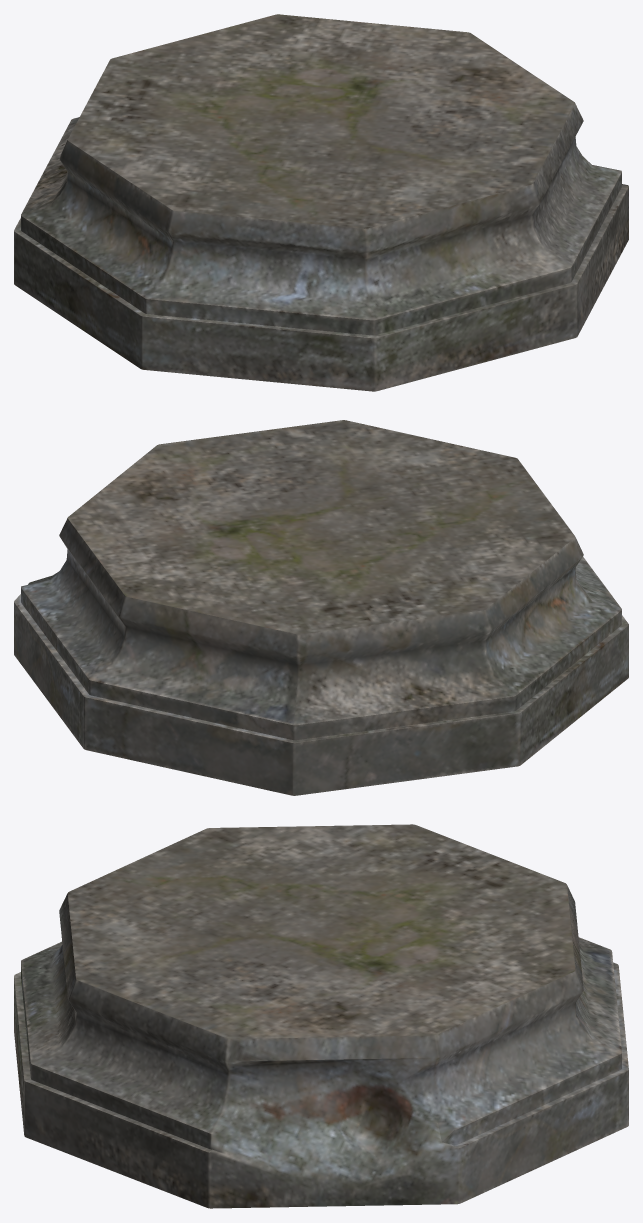
File: sm_ChapelColumnBase_01_01.fbx
3 renders of one model, top to bottom at view 1: azimuth 30°, elevation 25°; view 2: azimuth 150°, elevation 25°; view 3: azimuth 270°, elevation 25°, orthographic. The views are drawn at different scales.
Visible parts, largest first — view 1: sm_ChapelColumnBase_01_01_LOD0; view 2: sm_ChapelColumnBase_01_01_LOD0; view 3: sm_ChapelColumnBase_01_01_LOD0.
Boxes of the visible parts, bbox=[...] form: sm_ChapelColumnBase_01_01_LOD0: bbox=[14, 14, 628, 391]; sm_ChapelColumnBase_01_01_LOD0: bbox=[14, 420, 628, 795]; sm_ChapelColumnBase_01_01_LOD0: bbox=[14, 824, 628, 1208].
Size of the model in its own units: 94.4 by 94.38 by 24.87.
